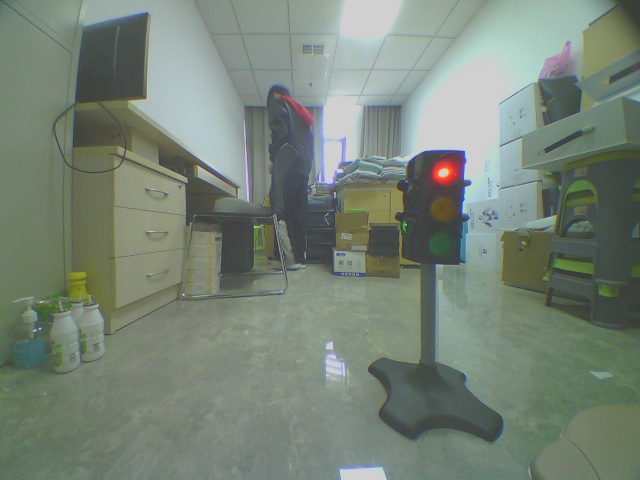Red: (425, 148, 461, 266)
